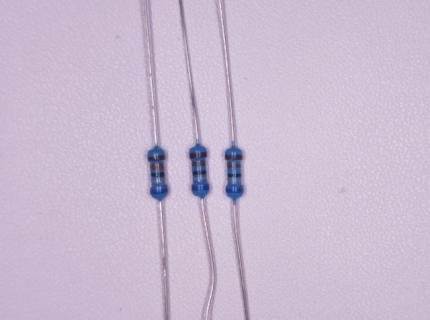Black band: (151, 173, 164, 177), (193, 171, 206, 175), (228, 174, 242, 177)
Blue band: (150, 188, 167, 194), (192, 186, 209, 191), (226, 188, 242, 193)
Brown band: (148, 155, 165, 161), (190, 152, 207, 158), (225, 155, 242, 159)
Grey band: (151, 179, 165, 183), (193, 177, 206, 181), (228, 179, 241, 183)
Orange band: (227, 163, 241, 168), (151, 164, 164, 169), (192, 162, 205, 167)
